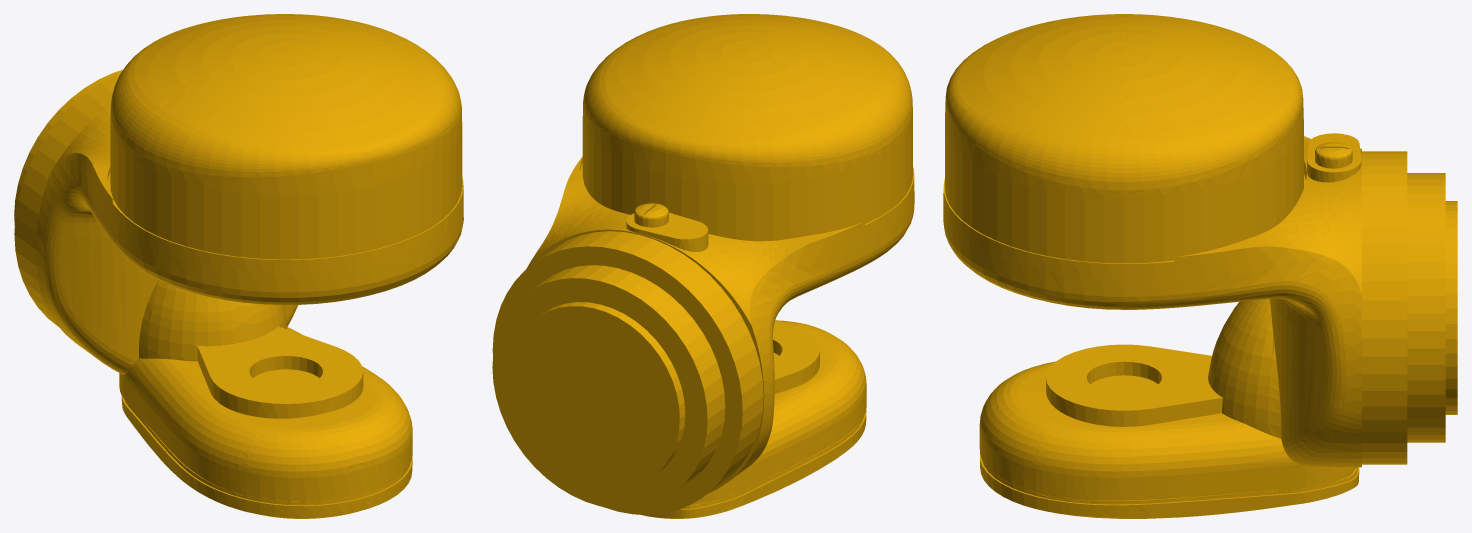
3 renders of one model, left to right at view 1: azimuth 30°, elevation 25°; view 2: azimuth 150°, elevation 25°; view 3: azimuth 270°, elevation 25°, orthographic. The views are drawn at different scales.
Visible parts, largest first — view 1: ShapeIndexedFaceSet_063, ShapeIndexedFaceSet_018, ShapeIndexedFaceSet_035, ShapeIndexedFaceSet_019, ShapeIndexedFaceSet_072, ShapeIndexedFaceSet_102, ShapeIndexedFaceSet_039, ShapeIndexedFaceSet_021, ShapeIndexedFaceSet_087, ShapeIndexedFaceSet_070, ShapeIndexedFaceSet_045, ShapeIndexedFaceSet_097 (+28 smaller); view 2: ShapeIndexedFaceSet_022, ShapeIndexedFaceSet_064, ShapeIndexedFaceSet_047, ShapeIndexedFaceSet_021, ShapeIndexedFaceSet_036, ShapeIndexedFaceSet_096, ShapeIndexedFaceSet_020, ShapeIndexedFaceSet_112, ShapeIndexedFaceSet_109, ShapeIndexedFaceSet_018, ShapeIndexedFaceSet_102, ShapeIndexedFaceSet_046 (+20 smaller); view 3: ShapeIndexedFaceSet_063, ShapeIndexedFaceSet_099, ShapeIndexedFaceSet_064, ShapeIndexedFaceSet_019, ShapeIndexedFaceSet_020, ShapeIndexedFaceSet_105, ShapeIndexedFaceSet_112, ShapeIndexedFaceSet_035, ShapeIndexedFaceSet_036, ShapeIndexedFaceSet_066, ShapeIndexedFaceSet_039, ShapeIndexedFaceSet_068 (+35 smaller).
Part boxes in pixels (x1,y1,x2,y2): ShapeIndexedFaceSet_063: [134, 124, 462, 259]; ShapeIndexedFaceSet_018: [160, 53, 367, 149]; ShapeIndexedFaceSet_035: [134, 46, 461, 177]; ShapeIndexedFaceSet_019: [286, 43, 438, 143]; ShapeIndexedFaceSet_072: [58, 234, 157, 361]; ShapeIndexedFaceSet_102: [124, 358, 263, 472]; ShapeIndexedFaceSet_039: [197, 326, 363, 403]; ShapeIndexedFaceSet_021: [134, 23, 285, 107]; ShapeIndexedFaceSet_087: [132, 203, 463, 292]; ShapeIndexedFaceSet_070: [139, 280, 245, 361]; ShapeIndexedFaceSet_045: [134, 107, 462, 195]; ShapeIndexedFaceSet_097: [246, 423, 357, 477]; ShapeIndexedFaceSet_022: [509, 306, 679, 489]; ShapeIndexedFaceSet_064: [582, 117, 890, 241]; ShapeIndexedFaceSet_047: [492, 278, 707, 509]; ShapeIndexedFaceSet_021: [671, 51, 866, 141]; ShapeIndexedFaceSet_036: [583, 44, 890, 167]; ShapeIndexedFaceSet_096: [492, 246, 742, 514]; ShapeIndexedFaceSet_020: [605, 41, 747, 135]; ShapeIndexedFaceSet_112: [536, 231, 763, 410]; ShapeIndexedFaceSet_109: [749, 210, 892, 433]; ShapeIndexedFaceSet_018: [748, 22, 890, 101]; ShapeIndexedFaceSet_102: [749, 353, 866, 466]; ShapeIndexedFaceSet_046: [582, 104, 890, 183]; ShapeIndexedFaceSet_063: [945, 124, 1124, 263]; ShapeIndexedFaceSet_099: [1036, 420, 1298, 477]; ShapeIndexedFaceSet_064: [1124, 123, 1303, 263]; ShapeIndexedFaceSet_019: [956, 53, 1124, 140]; ShapeIndexedFaceSet_020: [1124, 53, 1291, 140]; ShapeIndexedFaceSet_105: [1124, 246, 1361, 414]; ShapeIndexedFaceSet_112: [1362, 151, 1407, 374]; ShapeIndexedFaceSet_035: [945, 16, 1124, 190]; ShapeIndexedFaceSet_036: [1124, 17, 1303, 190]; ShapeIndexedFaceSet_066: [1407, 173, 1445, 364]; ShapeIndexedFaceSet_039: [1046, 344, 1222, 410]; ShapeIndexedFaceSet_068: [1208, 299, 1281, 438].
Bounding box in the file's own units: 0.2402 × 0.3411 × 0.3249.
